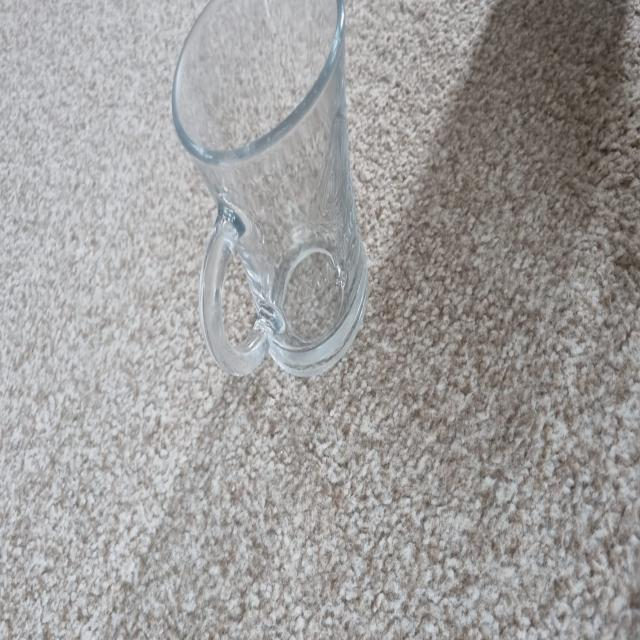Cup: (172, 0, 367, 376)
